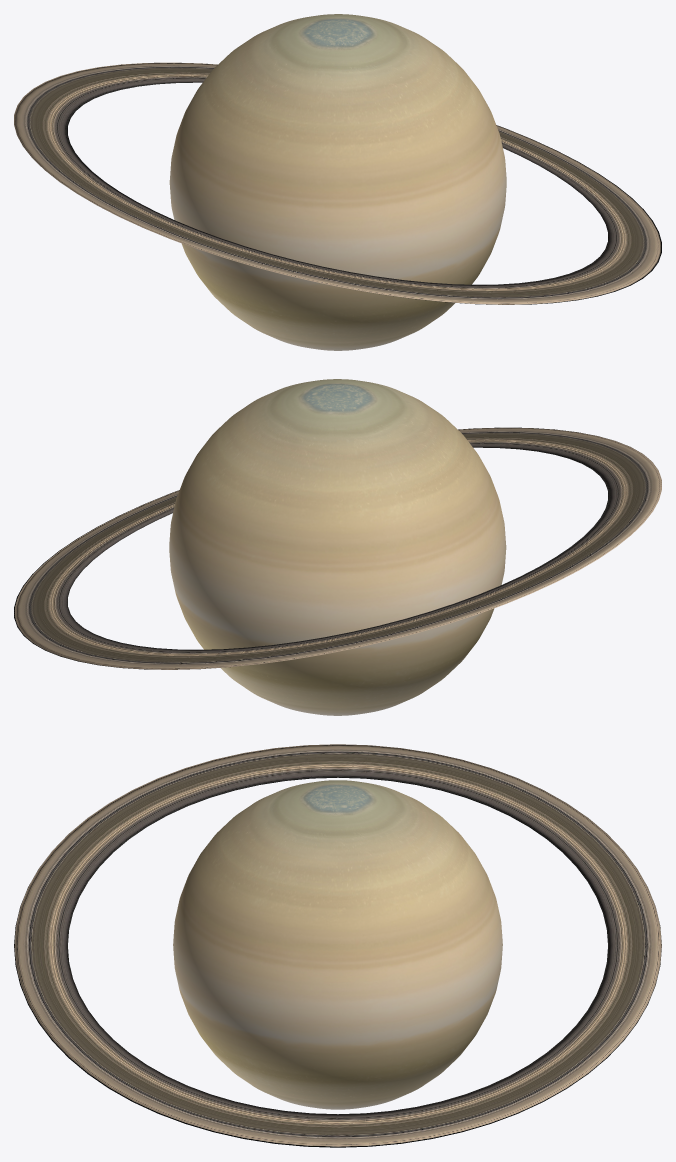
File: saturn.glb
The picture shows the model from 3 angles, top to bottom: view 1: azimuth 30°, elevation 25°; view 2: azimuth 150°, elevation 25°; view 3: azimuth 270°, elevation 25°; orthographic projection. The views are drawn at different scales.
Parts seen in each view (by area): view 1: Sphere, Circle; view 2: Sphere, Circle; view 3: Sphere, Circle.
Boxes of the visible parts, <box> form: Sphere: <box>169,14,506,350</box>; Circle: <box>14,62,661,304</box>; Sphere: <box>169,379,506,715</box>; Circle: <box>14,427,661,669</box>; Sphere: <box>173,780,502,1109</box>; Circle: <box>14,744,661,1147</box>.
Size of the model in its own units: 382 by 200 by 393.
2 materials, 2 textured.
